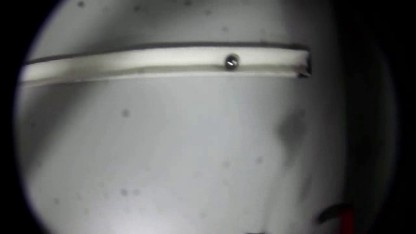gangzhu: (223, 53, 240, 71)
